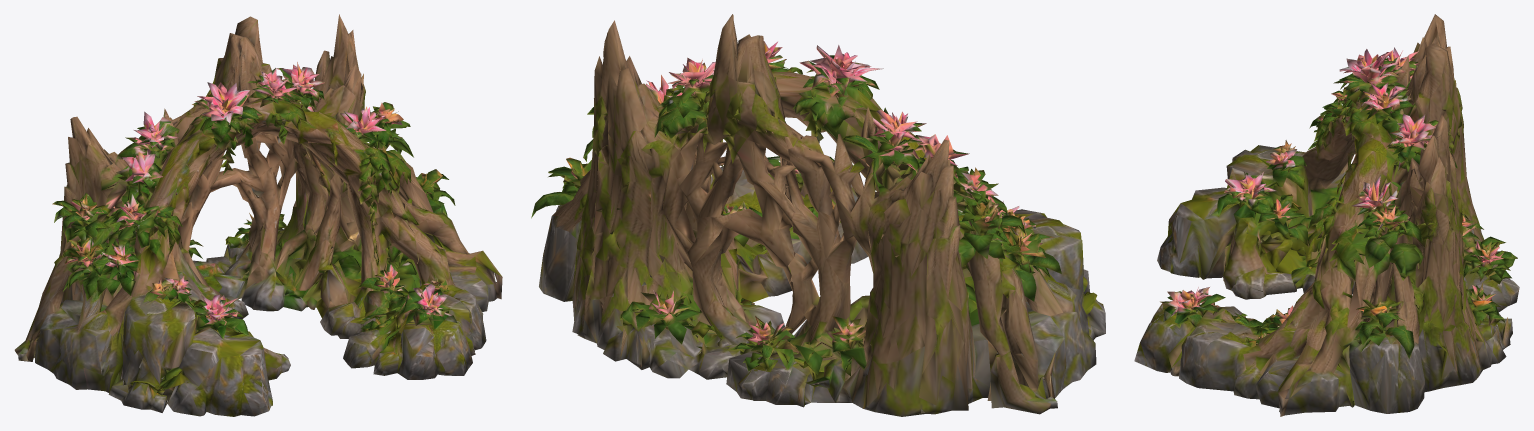
The model's file is crown_arch.glb.
3 renders of one model, left to right at view 1: azimuth 30°, elevation 25°; view 2: azimuth 150°, elevation 25°; view 3: azimuth 270°, elevation 25°, orthographic. The views are drawn at different scales.
Parts seen in each view (by area): view 1: Mesh_0; view 2: Mesh_0; view 3: Mesh_0.
Part boxes in pixels (x1=…): Mesh_0: x1=14, y1=14, x2=502, y2=416; Mesh_0: x1=531, y1=14, x2=1105, y2=416; Mesh_0: x1=1134, y1=14, x2=1519, y2=416.
Size of the model in its own units: 1.9 by 1.16 by 1.43.
1 material, 1 textured.
